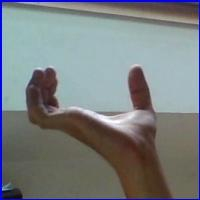B: (18, 58, 169, 165)
